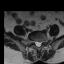CCS_normal: (37, 39, 39, 49)
LFS_stenosis: (41, 38, 44, 44)
LLS_normal: (39, 39, 41, 47)
RFS_stenosis: (32, 38, 34, 44)
RLS_normal: (34, 39, 37, 48)
